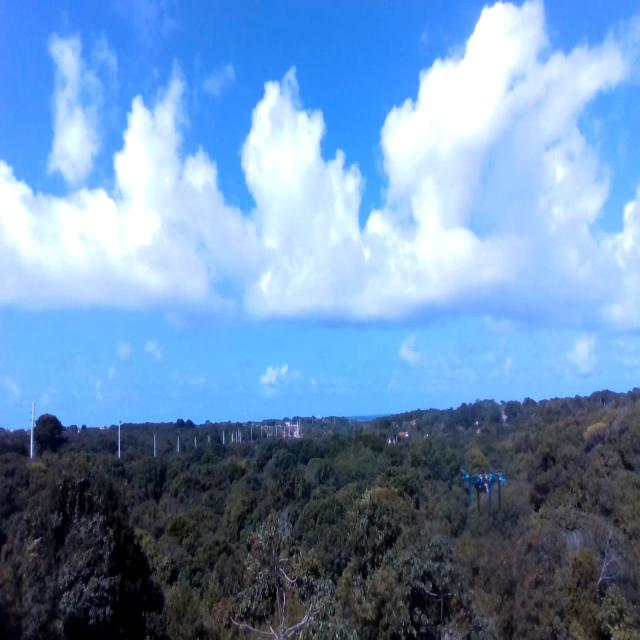-uav-: (458, 452, 508, 517)
